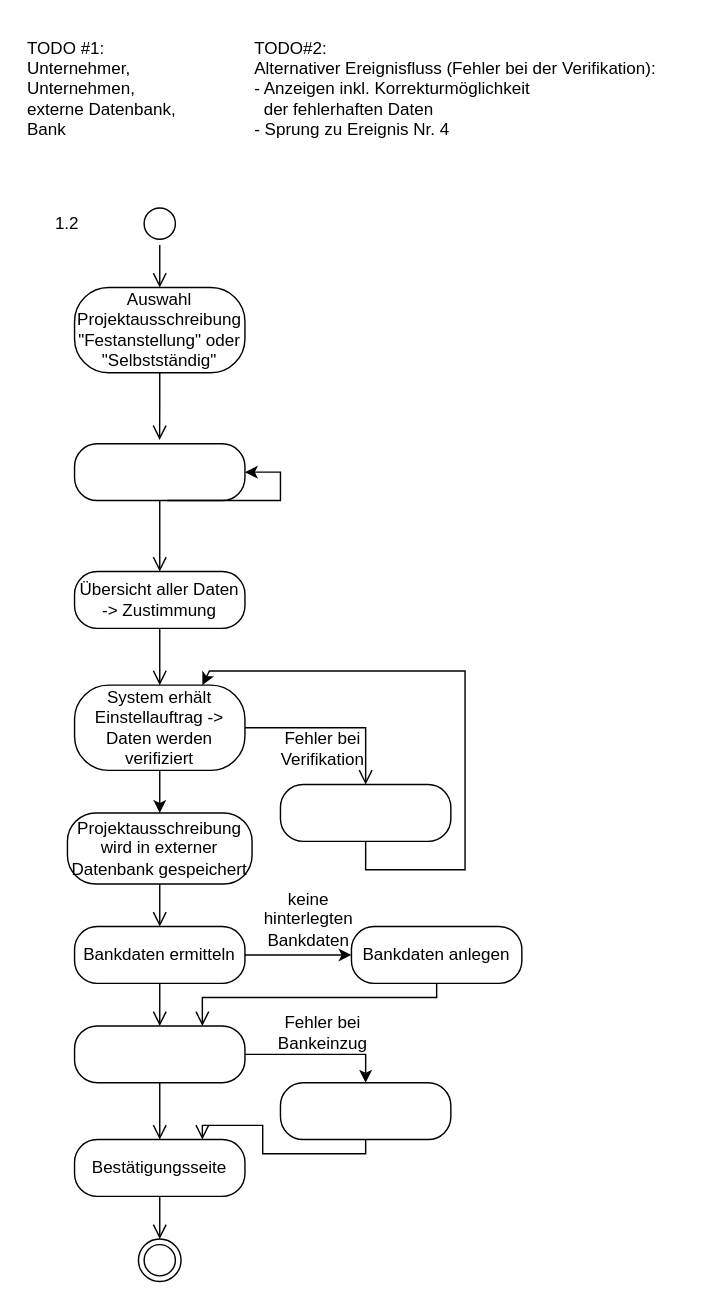
Image size: 716x1306. Some labels were removed from this diagram. The shapes that lost their labels are listed below. From the top down, each one's centre as x and y in pixels, then its label:
the point at 159,471: Erstellung Beschreibung
the point at 365,812: Daten können erneut überarbeitet werden
the point at 159,1054: Bankeinzug durchführen
the point at 365,1110: Bankdaten korrigieren
